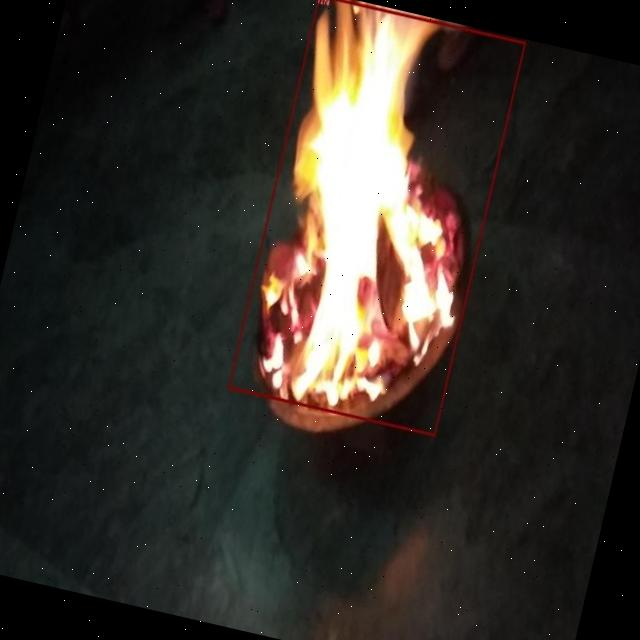fire: (227, 0, 525, 435)
